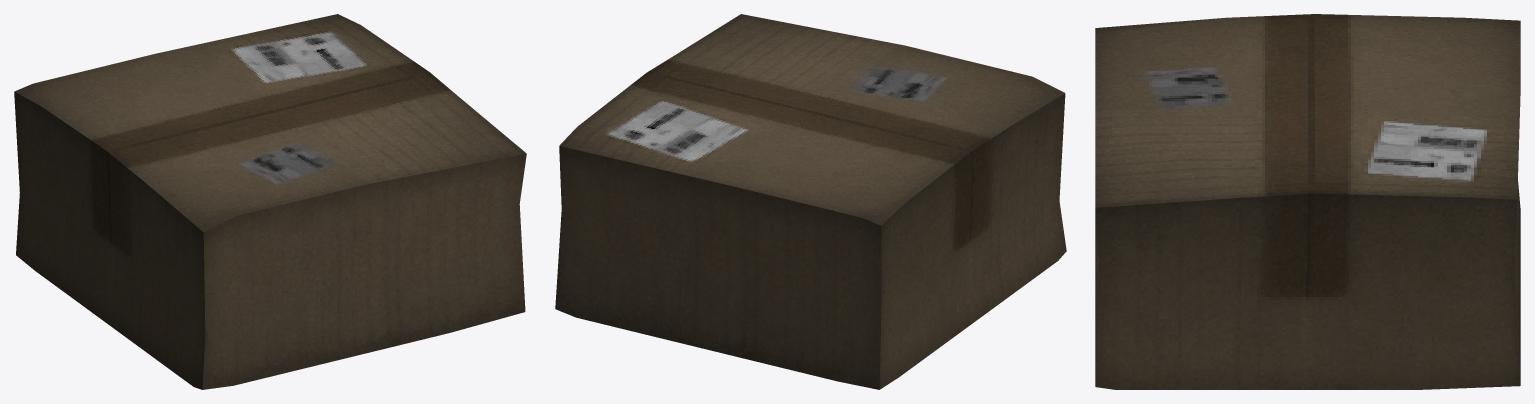
File: cardboard_box_1.glb
The picture shows the model from 3 angles, left to right: view 1: azimuth 30°, elevation 25°; view 2: azimuth 150°, elevation 25°; view 3: azimuth 270°, elevation 25°; orthographic projection. The views are drawn at different scales.
Visible parts, largest first — view 1: cardboard_box_1; view 2: cardboard_box_1; view 3: cardboard_box_1.
Boxes of the visible parts, box(x1,y1,x2,y2) form: cardboard_box_1: box(14, 14, 526, 389); cardboard_box_1: box(555, 14, 1066, 389); cardboard_box_1: box(1095, 14, 1520, 389).
Size of the model in its own units: 0.7269 by 0.367 by 0.72.
Materials: 1 (1 with a texture image).
